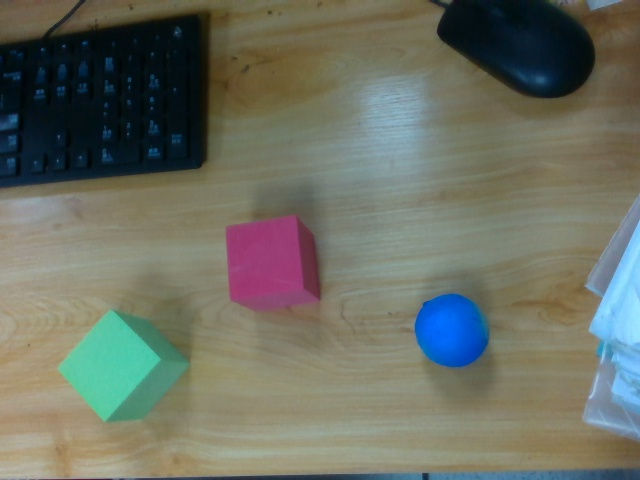blueball: (414, 291, 488, 367)
green: (57, 309, 189, 425)
red: (223, 215, 322, 312)
